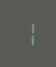one: (19, 20, 35, 46)
